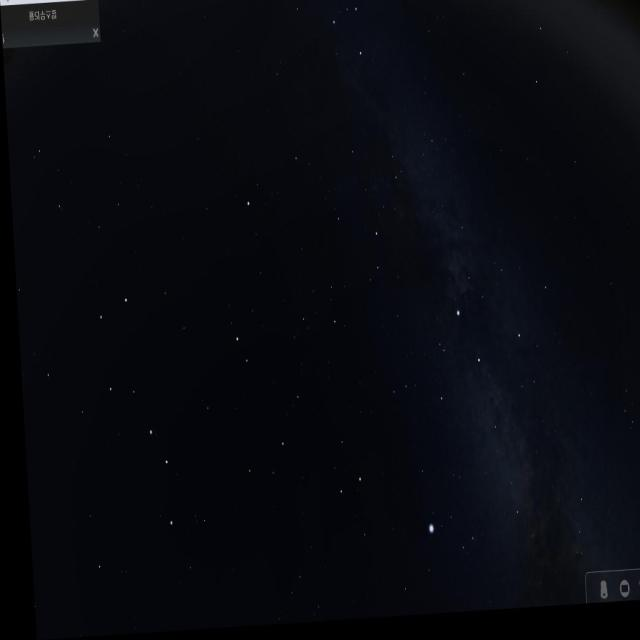cassiopeia: (288, 0, 371, 72)
cygnus: (427, 300, 533, 492)
lyra: (420, 512, 471, 568)
ursa_major: (91, 300, 181, 540)
